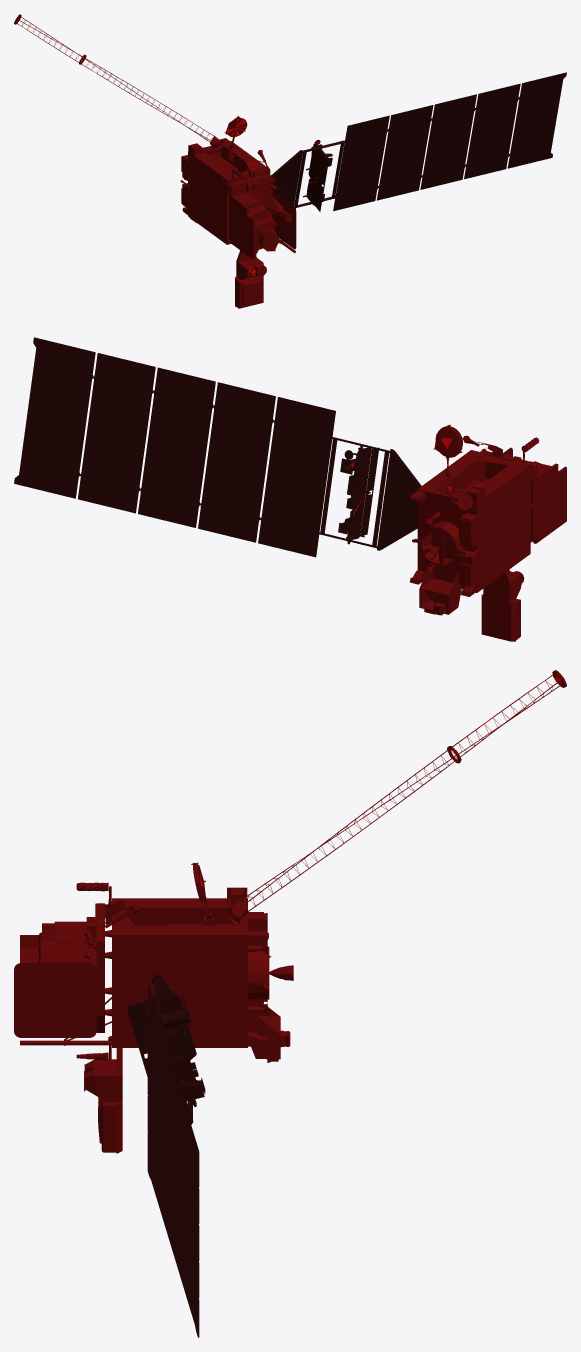
Rendered from matlib_goes17.obj.
3 views of the same model, one above another, from view 1: azimuth 30°, elevation 25°; view 2: azimuth 150°, elevation 25°; view 3: azimuth 270°, elevation 25° (orthographic). The views are drawn at different scales.
Visible parts, largest first — view 1: mesh1; view 2: mesh1; view 3: mesh1.
Boxes of the visible parts, x1,y1,x2,y2 form: mesh1: (14, 14, 566, 308); mesh1: (14, 337, 566, 641); mesh1: (14, 670, 566, 1337).
Size of the model in its own units: 5.94 by 2.88 by 3.74.
